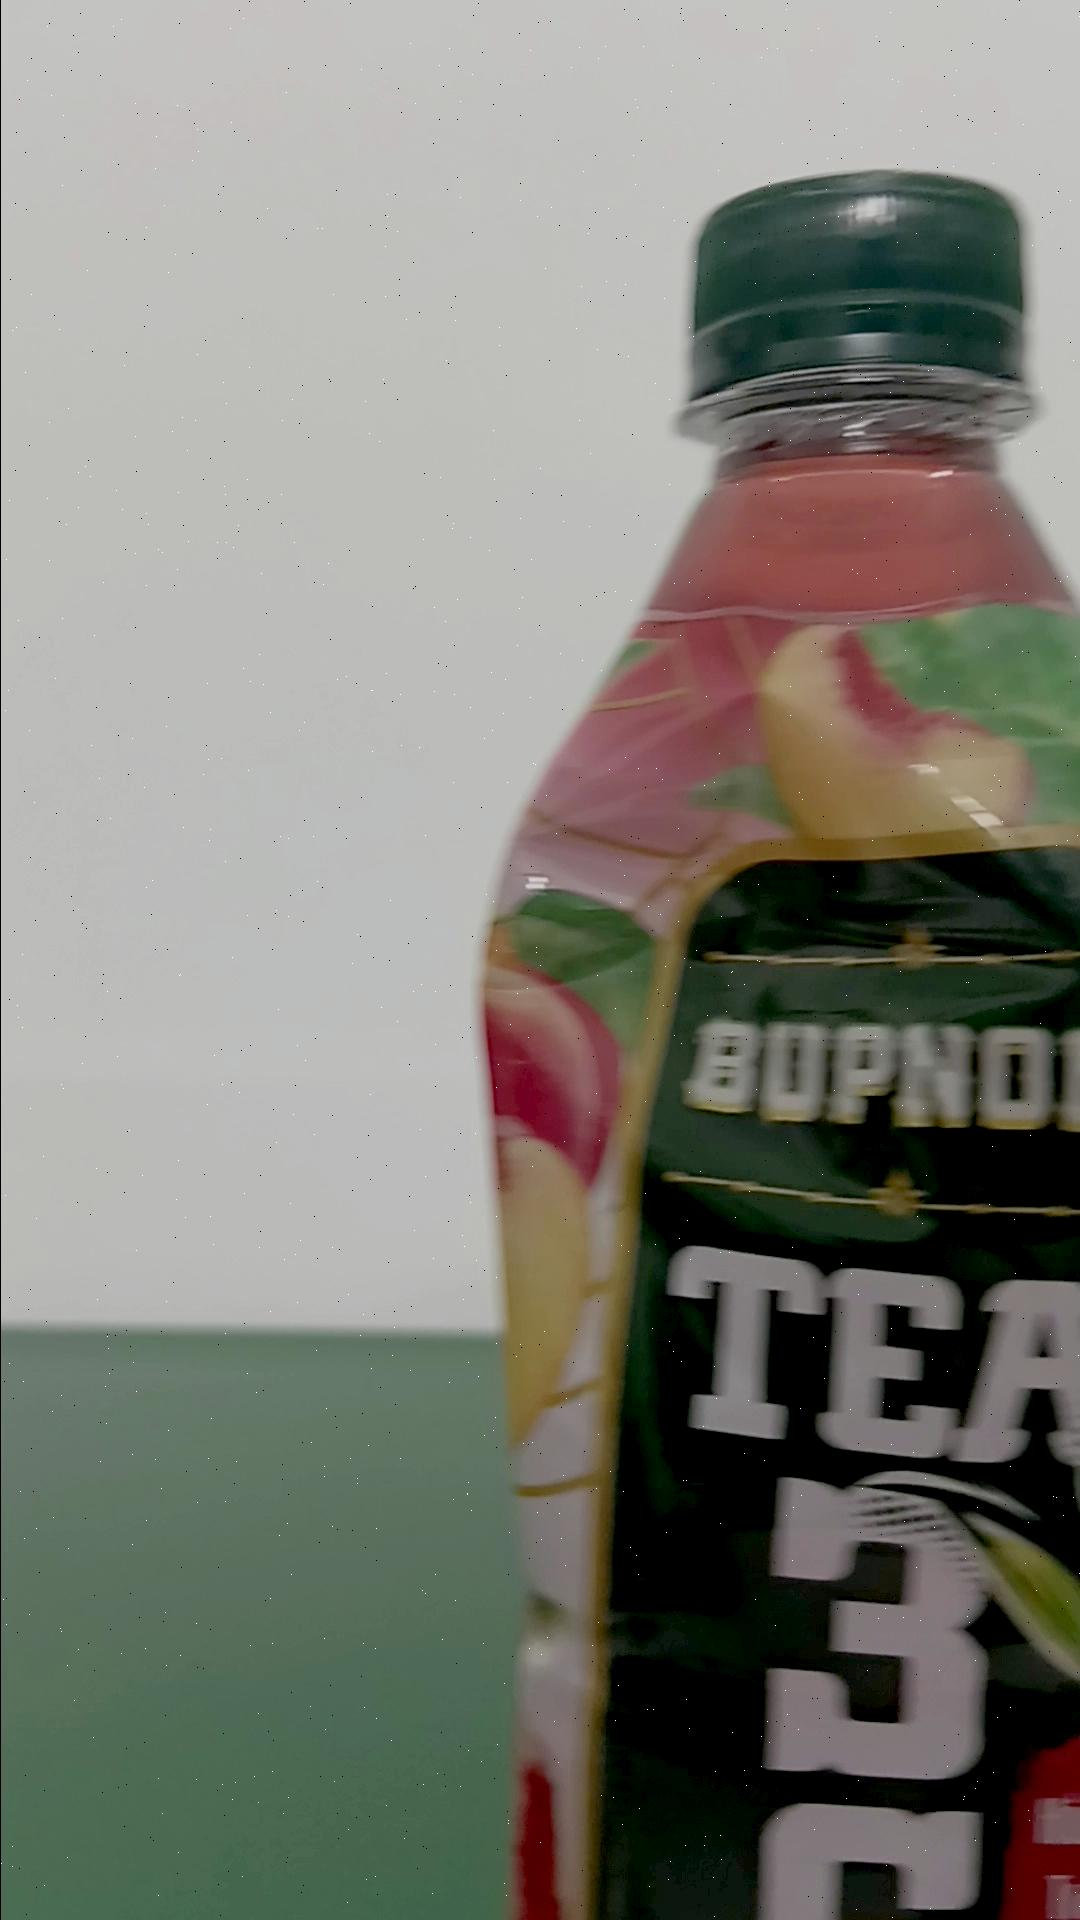loi meo sp: (473, 165, 1077, 1913)
